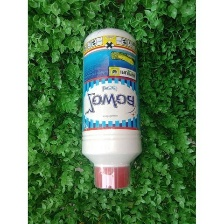insecticide: (75, 25, 145, 193)
